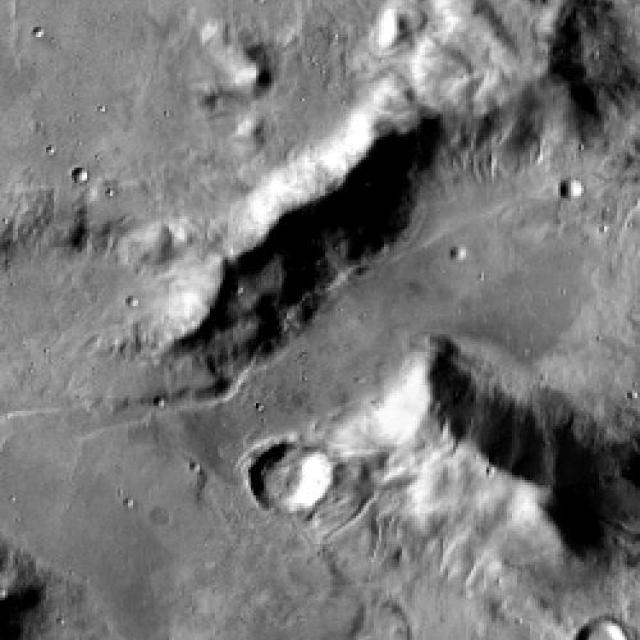crater: (0, 0, 402, 355), (0, 0, 156, 152), (236, 420, 348, 527), (374, 0, 496, 59), (0, 0, 65, 61), (445, 0, 519, 38), (582, 601, 639, 640), (0, 581, 31, 640)
